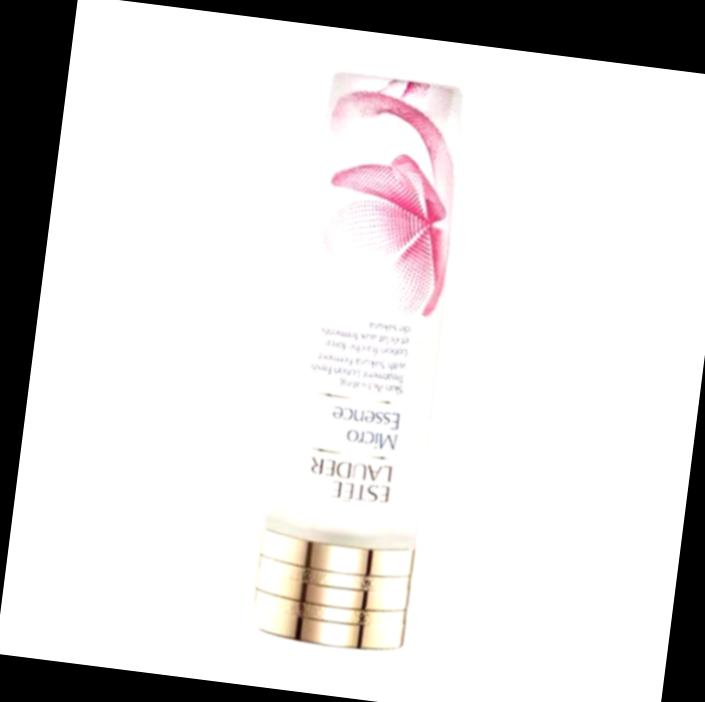cosmetic: (252, 69, 466, 648)
